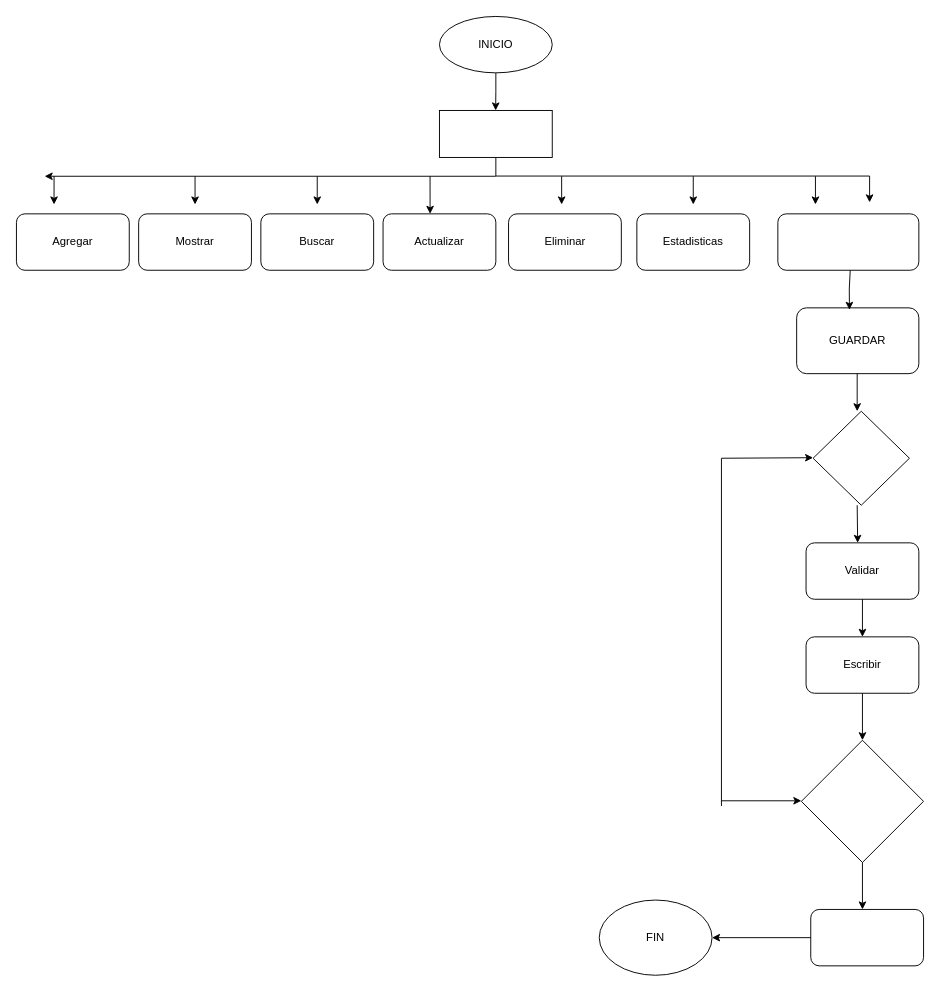
Image size: 940x992. Some labels were removed from this diagram. The centre of each missing label's shape, as x and y in pixels:
"CURGAR CSV" goes at point (848, 241).
"Decidir sobreescribir" goes at point (862, 800).
"Mensaje" goes at point (867, 937).
"MENU PRINCIPAL" goes at point (495, 133).
"Selección de ruta" goes at point (860, 457).
